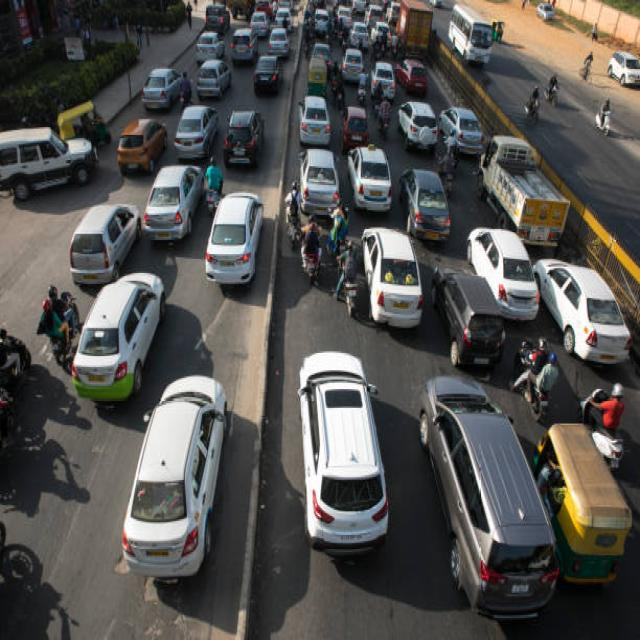high_traffic: (116, 13, 574, 582)
